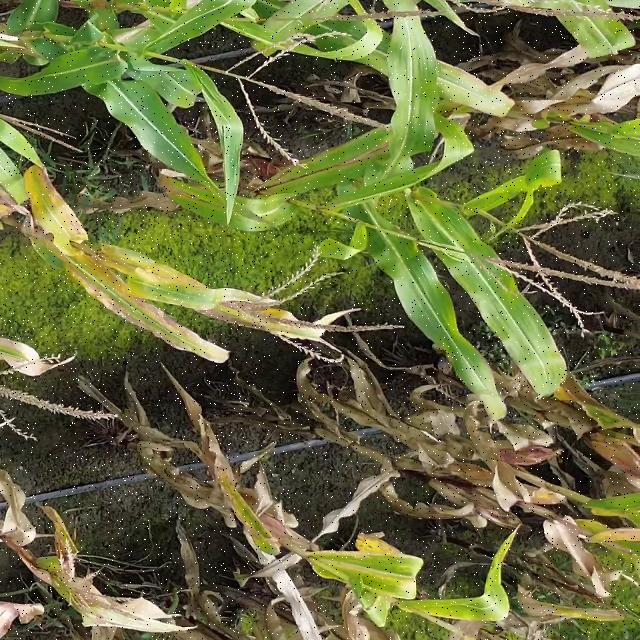northern-leaf-blight: (327, 128, 402, 174)
